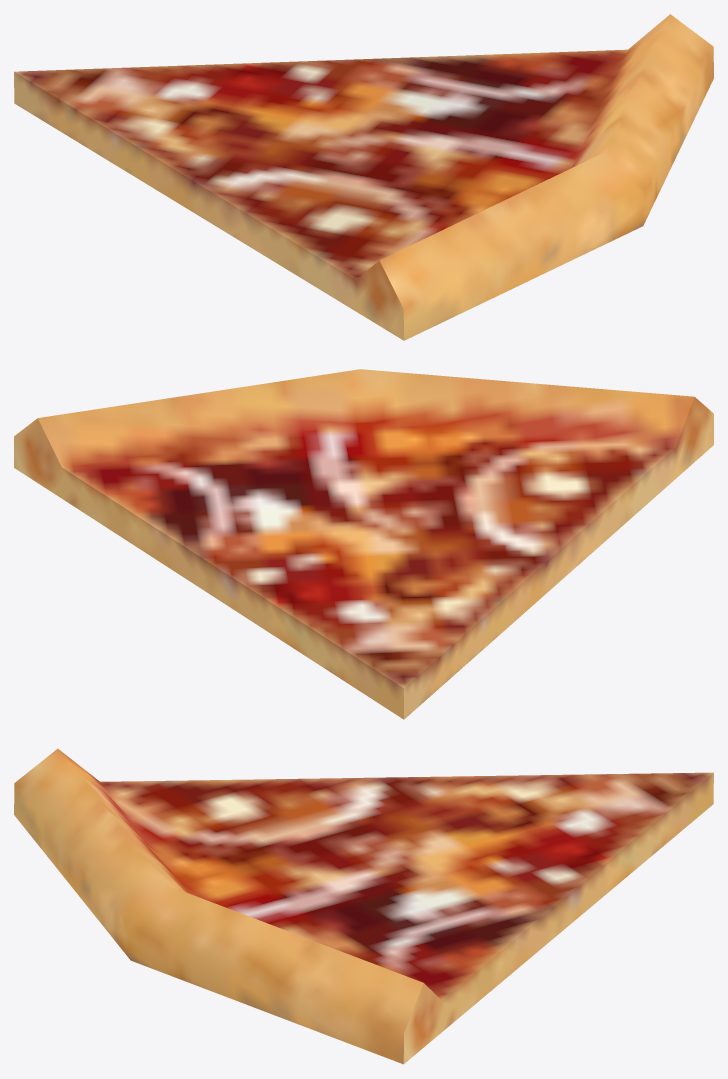
The picture shows the model from 3 angles, top to bottom: view 1: azimuth 30°, elevation 25°; view 2: azimuth 150°, elevation 25°; view 3: azimuth 270°, elevation 25°; orthographic projection.
Parts seen in each view (by area): view 1: pizza; view 2: pizza; view 3: pizza.
Part boxes in pixels (bbox=[...]): pizza: bbox=[14, 14, 713, 340]; pizza: bbox=[14, 369, 713, 719]; pizza: bbox=[14, 748, 713, 1064].
Bounding box in the file's own units: 38.45 × 4.99 × 42.79.
1 material, 1 textured.
